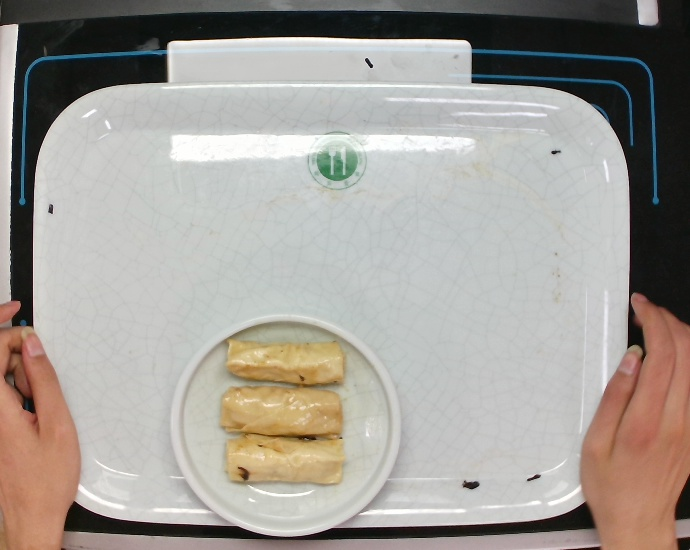JYsf-Xiao_Yuan_Pan: (163, 305, 404, 541)
